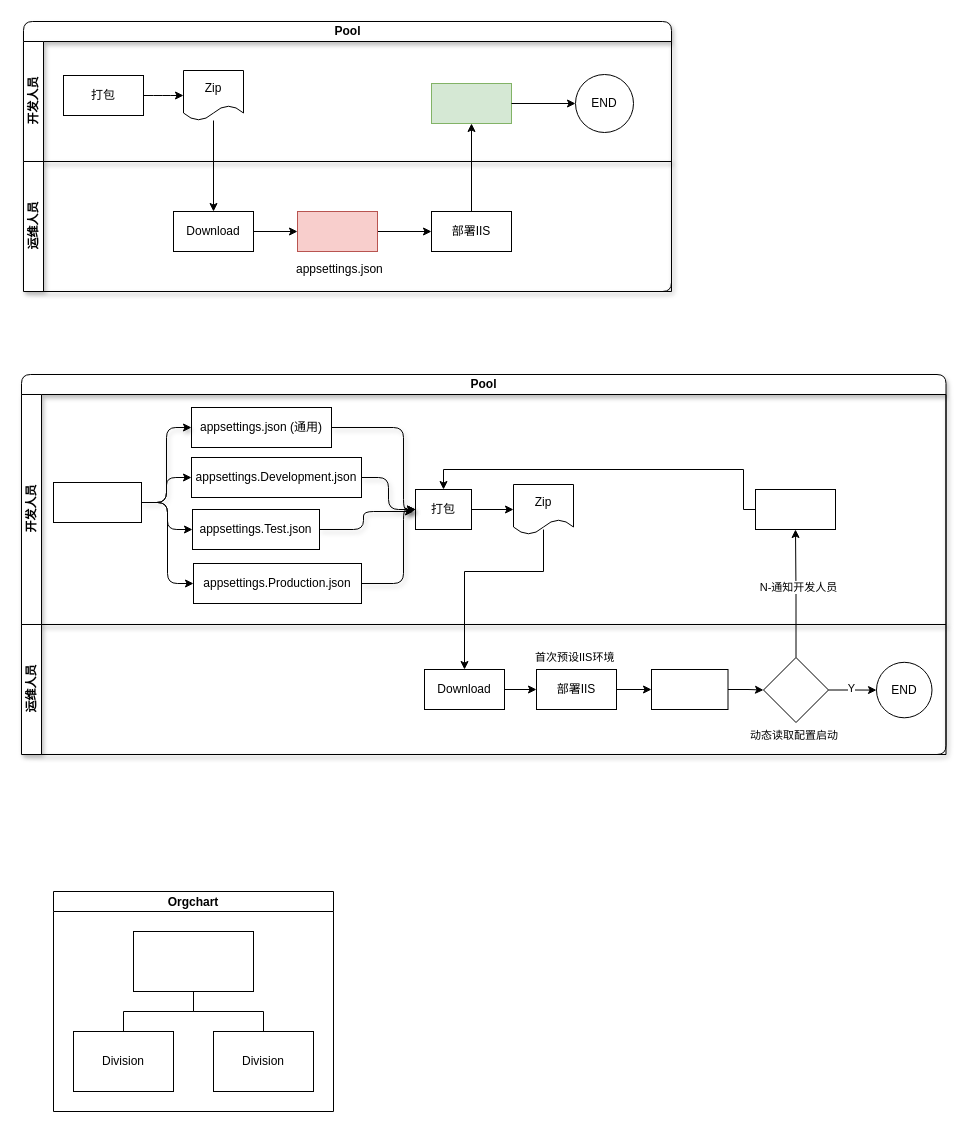
The diagram is 970 pixels wide and 1129 high, and some of its shapes have lost their labels. The centre of each missing label's shape, as x and y in pixels:
Health Check: the point at 471,103
Organization: the point at 193,961
修复: the point at 795,509
修改配置: the point at 337,231
内检组件: the point at 689,689
启动 成功: the point at 795,689
按环境 拆分配置: the point at 97,502
